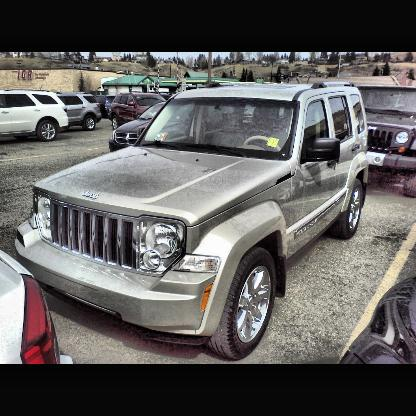Jeep Liberty SUV 2012: (14, 84, 373, 363)
